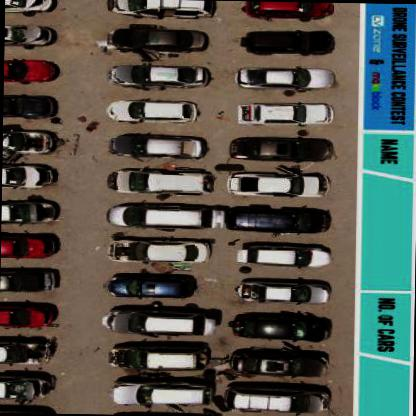car: (228, 310, 330, 342), (224, 349, 332, 377), (103, 168, 214, 195), (101, 309, 216, 335), (227, 204, 329, 233), (226, 135, 333, 161), (102, 346, 209, 372), (110, 379, 213, 406), (106, 27, 208, 54), (102, 237, 209, 262), (112, 204, 223, 228), (106, 63, 210, 88), (109, 133, 207, 159), (222, 389, 328, 413), (226, 174, 324, 199), (232, 68, 333, 92), (243, 29, 332, 56), (234, 102, 330, 127), (236, 245, 329, 270), (106, 0, 216, 21), (104, 274, 194, 299), (236, 280, 328, 304), (106, 99, 194, 124), (0, 334, 56, 367), (240, 2, 332, 22), (0, 196, 58, 226), (0, 373, 53, 405), (0, 301, 56, 331), (2, 232, 60, 260), (0, 267, 56, 295), (3, 58, 56, 86), (2, 164, 57, 190), (3, 92, 54, 120), (2, 128, 52, 156), (4, 24, 51, 46), (4, 0, 56, 17)
